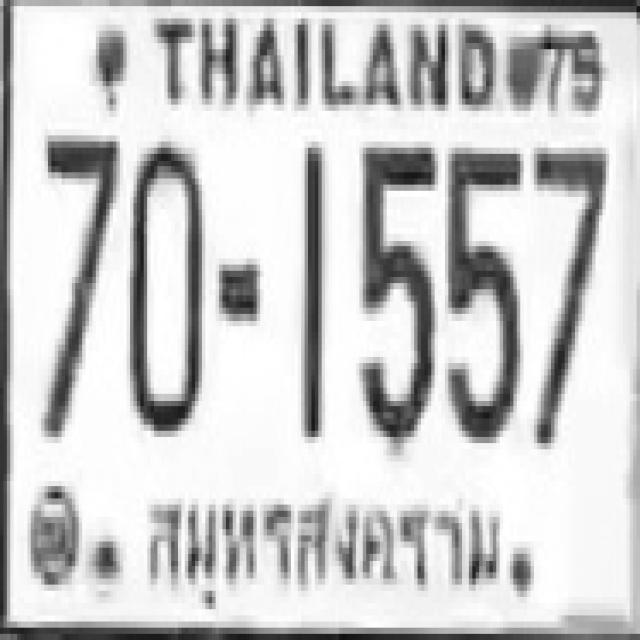0: (127, 135, 202, 431)
1: (296, 138, 323, 434), (300, 141, 324, 437)
5: (358, 142, 433, 443), (445, 141, 520, 437)
7: (39, 129, 118, 431), (529, 142, 604, 443)
SamutSongkhram: (135, 476, 504, 616)
